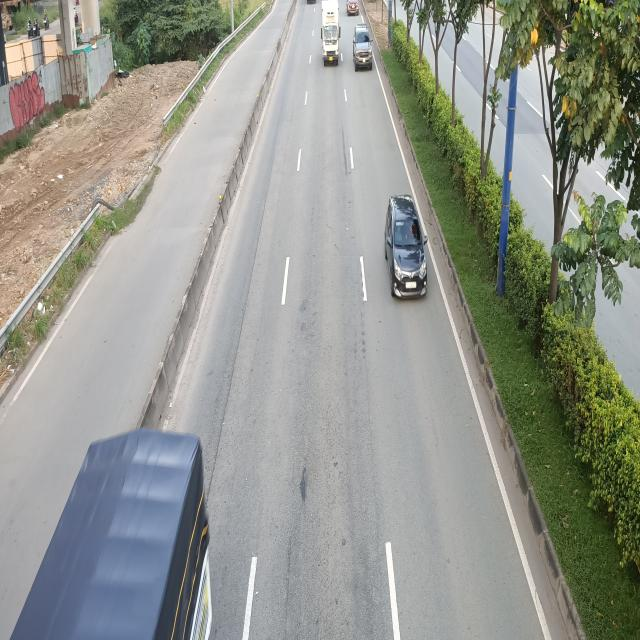car: (386, 192, 430, 299), (352, 24, 374, 70)
truck: (320, 1, 342, 65)
